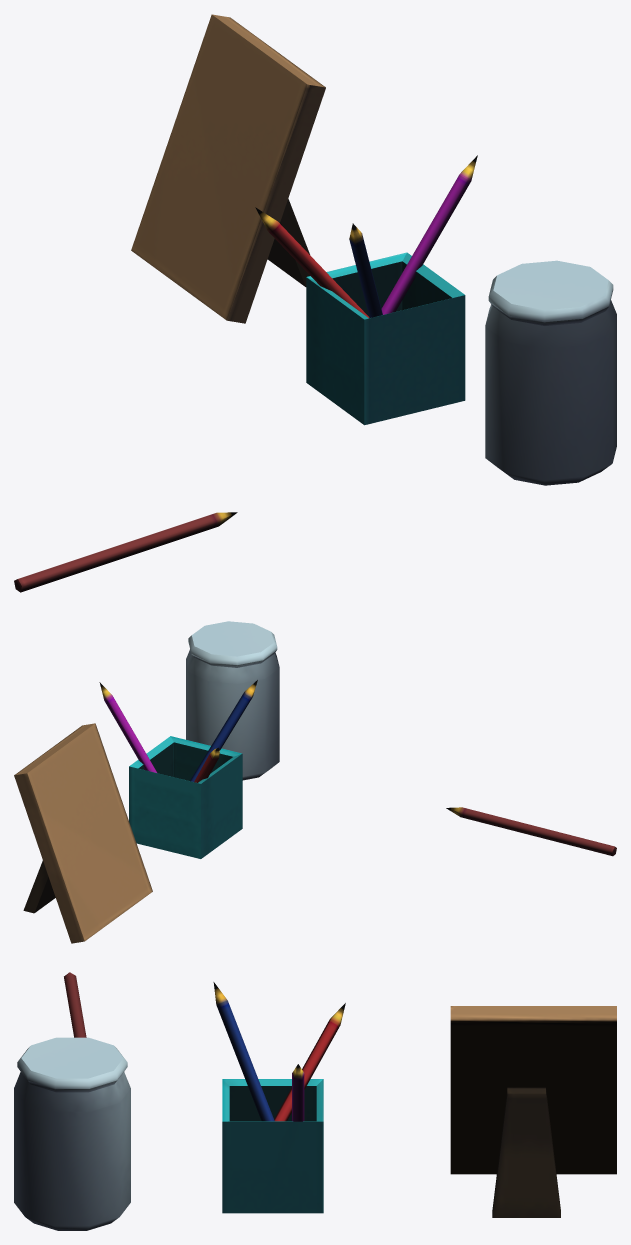
The model's file is Tx_prop_pencil_glass container_photoframe_22.fbx.
3 renders of one model, top to bottom at view 1: azimuth 30°, elevation 25°; view 2: azimuth 150°, elevation 25°; view 3: azimuth 270°, elevation 25°, orthographic. The views are drawn at different scales.
Visible parts, largest first — view 1: Tx_prop_pencil_glass_container_photoframe_11; view 2: Tx_prop_pencil_glass_container_photoframe_11; view 3: Tx_prop_pencil_glass_container_photoframe_11.
Boxes of the visible parts, x1,y1,x2,y2 form: Tx_prop_pencil_glass_container_photoframe_11: (14,14,616,592); Tx_prop_pencil_glass_container_photoframe_11: (14,621,616,943); Tx_prop_pencil_glass_container_photoframe_11: (14,972,616,1230).
Size of the model in its own units: 3 by 1.09 by 3.05.
